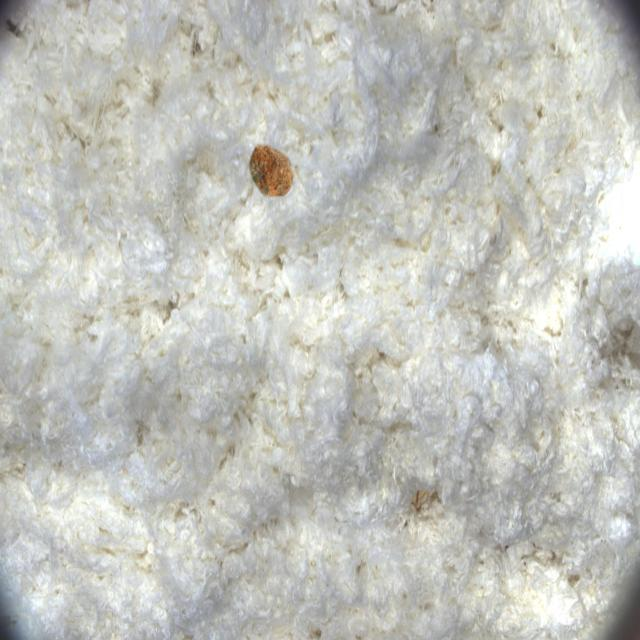dust: (230, 121, 320, 224)
